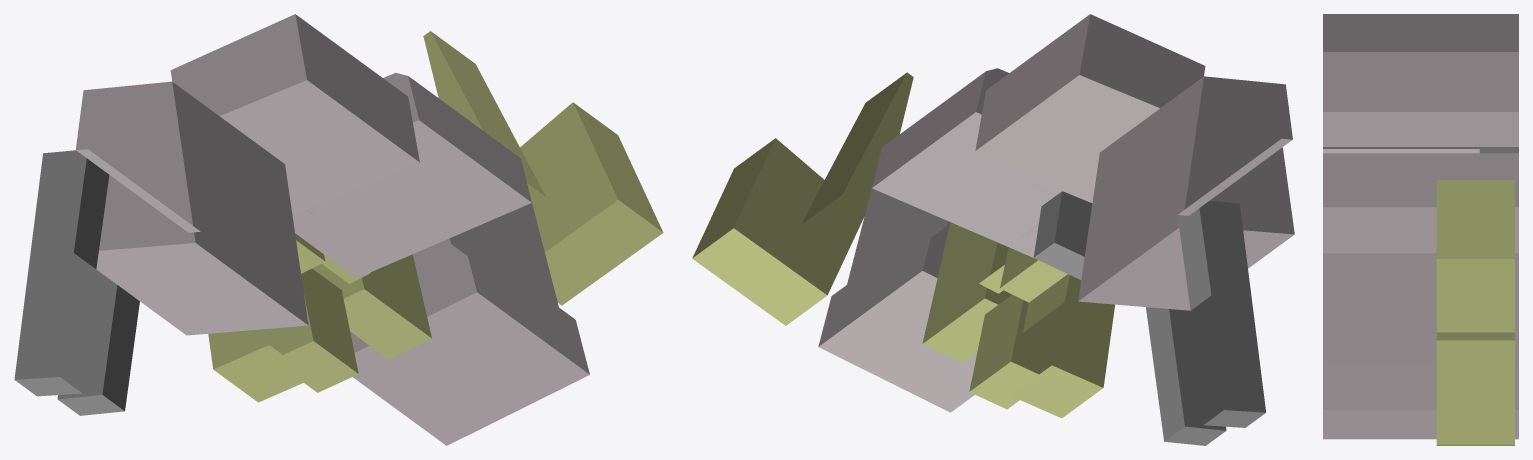
3 views of the same model, side by side, from view 1: azimuth 30°, elevation 25°; view 2: azimuth 150°, elevation 25°; view 3: azimuth 270°, elevation 25° (orthographic). The views are drawn at different scales.
Visible parts, largest first — view 1: 0_3_1_0_3_3_3_3_0; view 2: 0_3_1_0_3_3_3_3_0; view 3: 0_3_1_0_3_3_3_3_0.
Boxes of the visible parts, left/top/right/bottom form: 0_3_1_0_3_3_3_3_0: left=14, top=14, right=663, bottom=445; 0_3_1_0_3_3_3_3_0: left=692, top=14, right=1294, bottom=445; 0_3_1_0_3_3_3_3_0: left=1323, top=14, right=1518, bottom=445.
Size of the model in its own units: 46.16 by 26.3 by 15.
